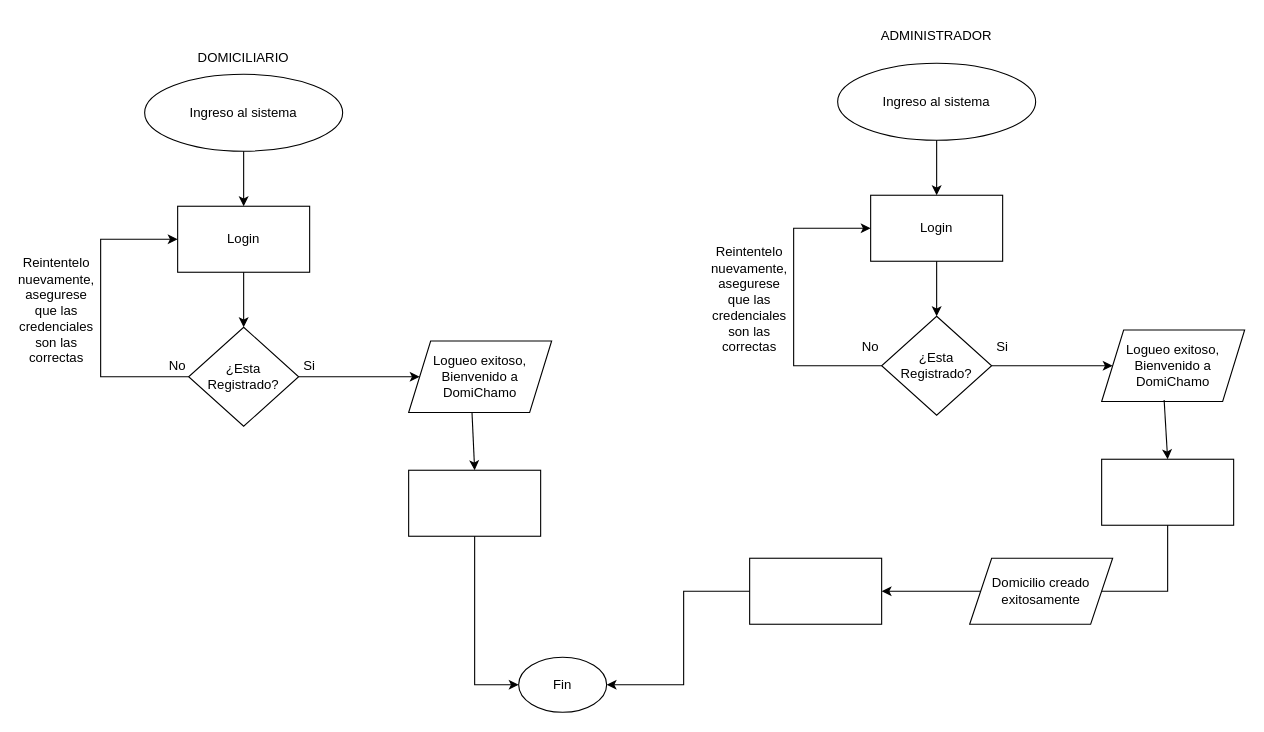
This 1264x732 diagram has some shape labels left out. The centre of each missing label's shape, as x and y in pixels:
Asignacion de domicilio al domiciliario: the point at 815,590
Creacion del Domicilio: the point at 1167,491
Vista de domicilios asignados: the point at 474,502
